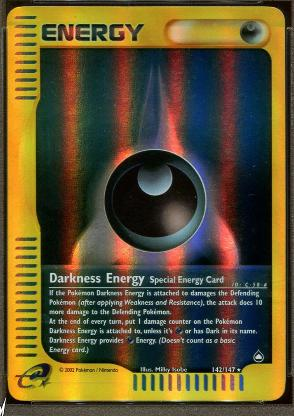Card: (3, 3, 287, 405)
